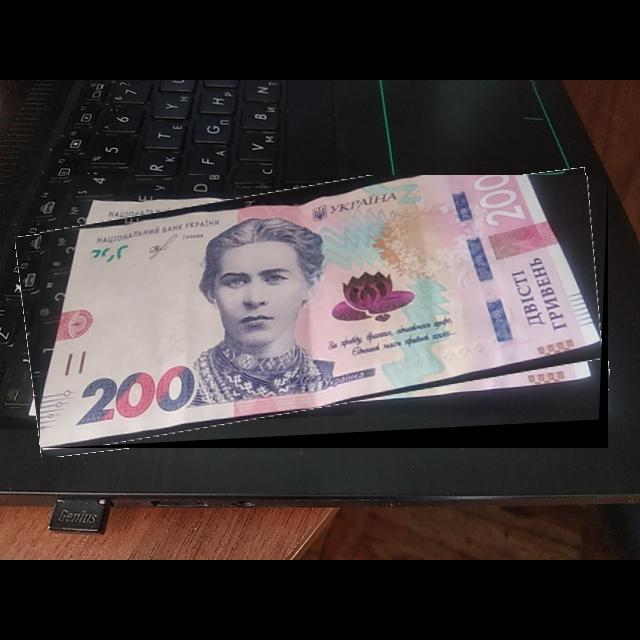200uah: (40, 175, 604, 449)
